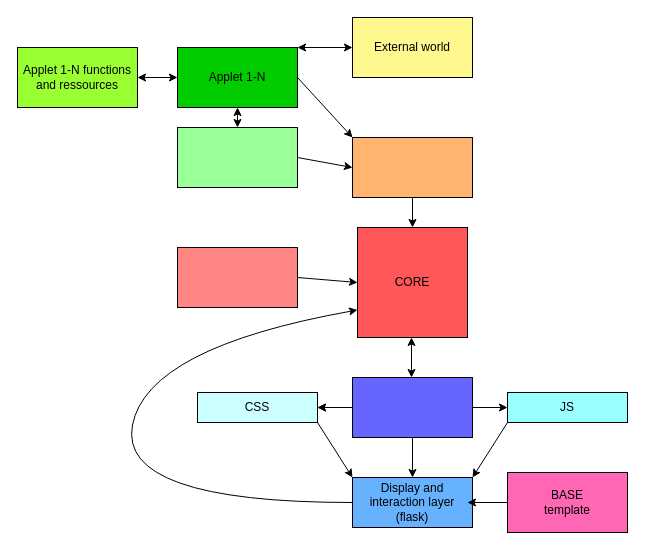
The diagram is 645 pixels wide and 550 high, and some of its shapes have lost their labels. The box of each missing label's shape, as (x1, y1, x2, y2) in pixels:
Applet 1-N config file: (176, 126, 298, 188)
Constructor: (352, 376, 472, 438)
CORE config file: (176, 246, 298, 308)
Deployment layer: (352, 136, 472, 198)
